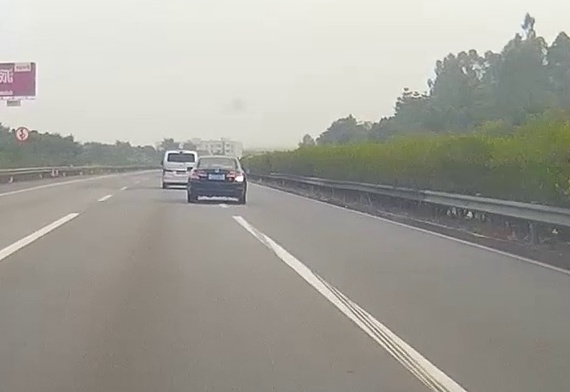L_light: (190, 170, 208, 180)
R_light: (226, 171, 244, 182)
T_light: (214, 157, 223, 158)
day-right: (187, 155, 247, 205)
